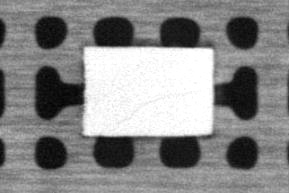DIE_CRACK: (117, 88, 206, 124)
